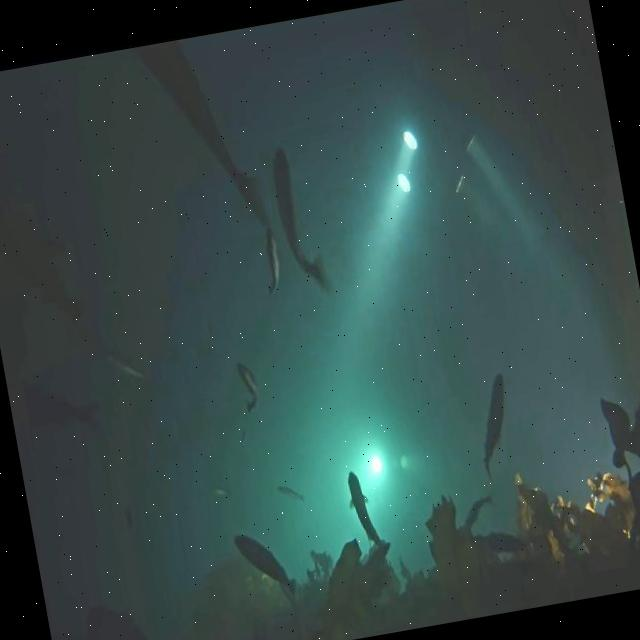fish: (132, 28, 272, 242), (267, 139, 329, 296), (233, 529, 300, 612), (469, 374, 518, 472), (29, 382, 102, 447), (342, 464, 384, 554), (93, 343, 143, 389), (258, 230, 288, 302), (458, 491, 497, 532), (234, 360, 262, 414), (276, 479, 305, 512), (207, 484, 230, 502), (124, 507, 134, 531), (238, 432, 250, 448)
